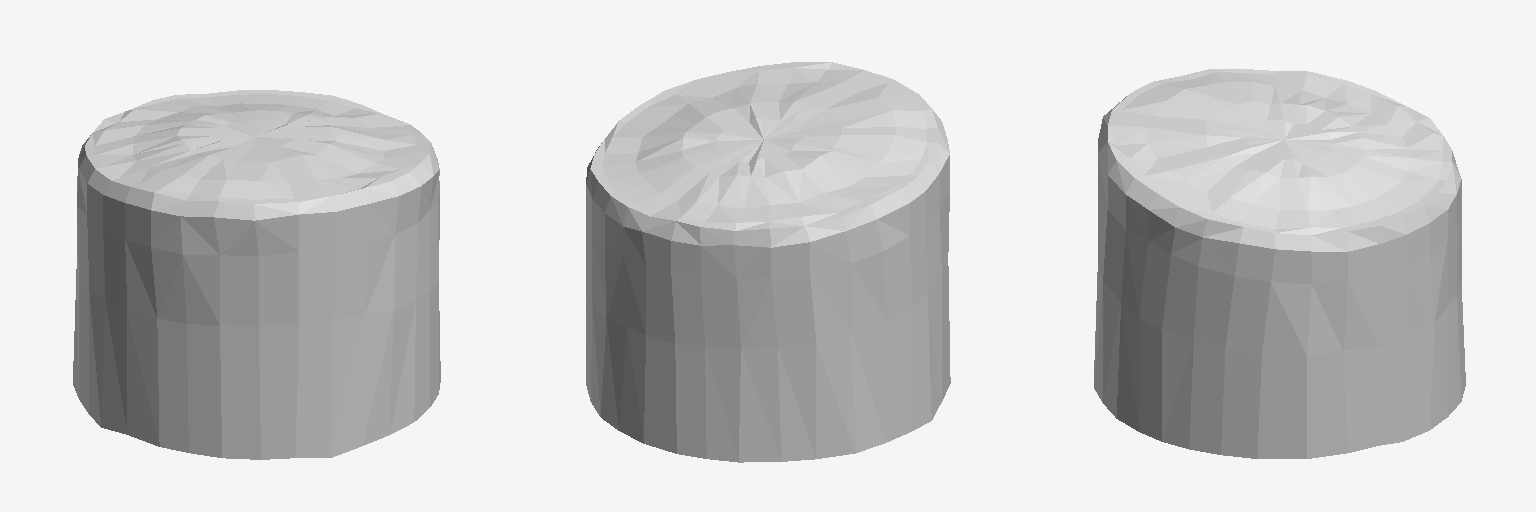
File: right_app_button.obj
3 renders of one model, left to right at view 1: azimuth 30°, elevation 25°; view 2: azimuth 150°, elevation 25°; view 3: azimuth 270°, elevation 25°, orthographic.
Parts seen in each view (by area): view 1: right_app_button; view 2: right_app_button; view 3: right_app_button.
Boxes of the visible parts, <box> form: right_app_button: <box>73,90,440,459</box>; right_app_button: <box>586,62,950,462</box>; right_app_button: <box>1094,69,1465,458</box>.
Size of the model in its own units: 0.0081 by 0.0063 by 0.0082.